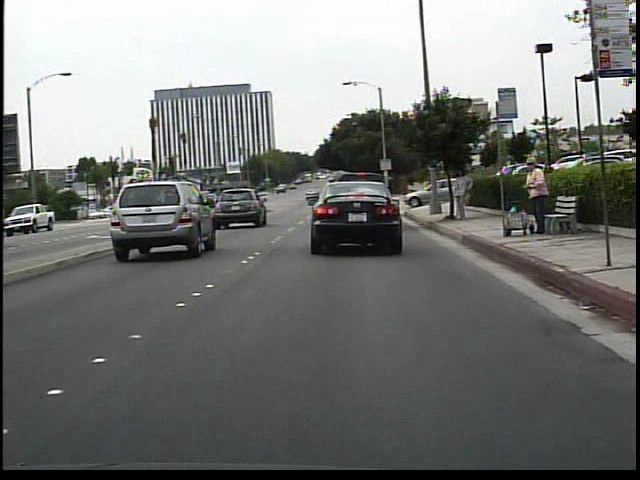person: (519, 153, 550, 235), (449, 165, 475, 223)
